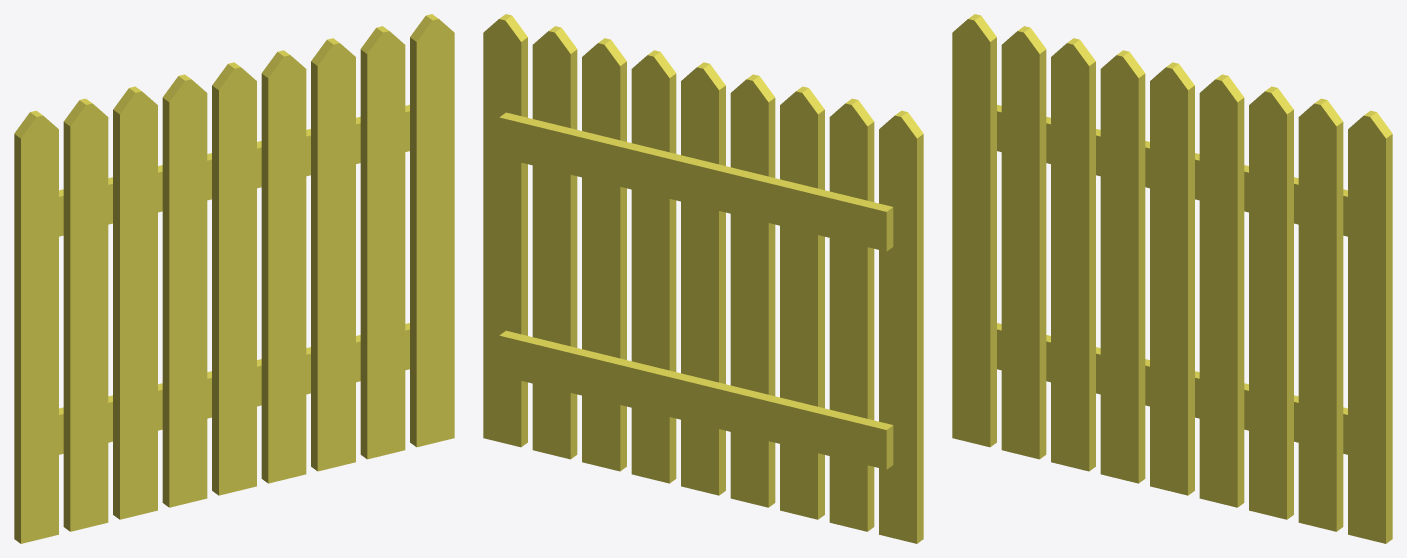
File: Palissade.fbx
3 renders of one model, left to right at view 1: azimuth 30°, elevation 25°; view 2: azimuth 150°, elevation 25°; view 3: azimuth 330°, elevation 25°, orthographic.
Parts seen in each view (by area): view 1: Palissade; view 2: Palissade; view 3: Palissade.
Boxes of the visible parts, x1=… form: Palissade: x1=14, y1=14, x2=454, y2=543; Palissade: x1=483, y1=14, x2=923, y2=543; Palissade: x1=952, y1=14, x2=1392, y2=543.
Size of the model in its own units: 112 by 104 by 6.04.
